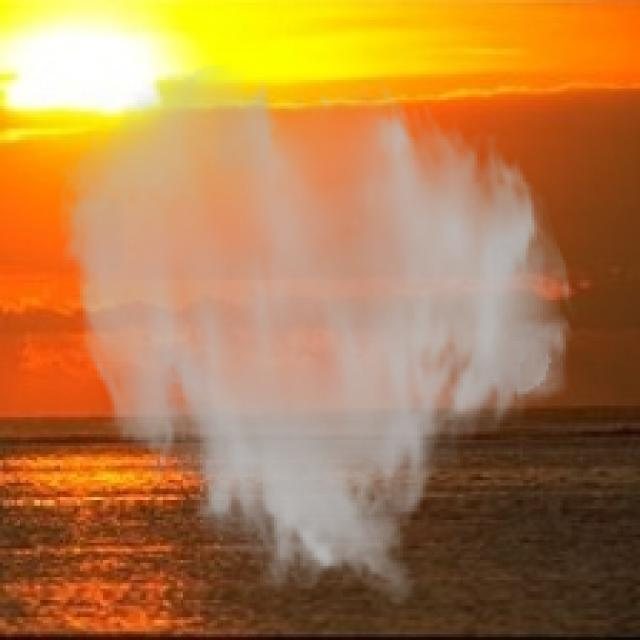smoke: (54, 60, 577, 609)
